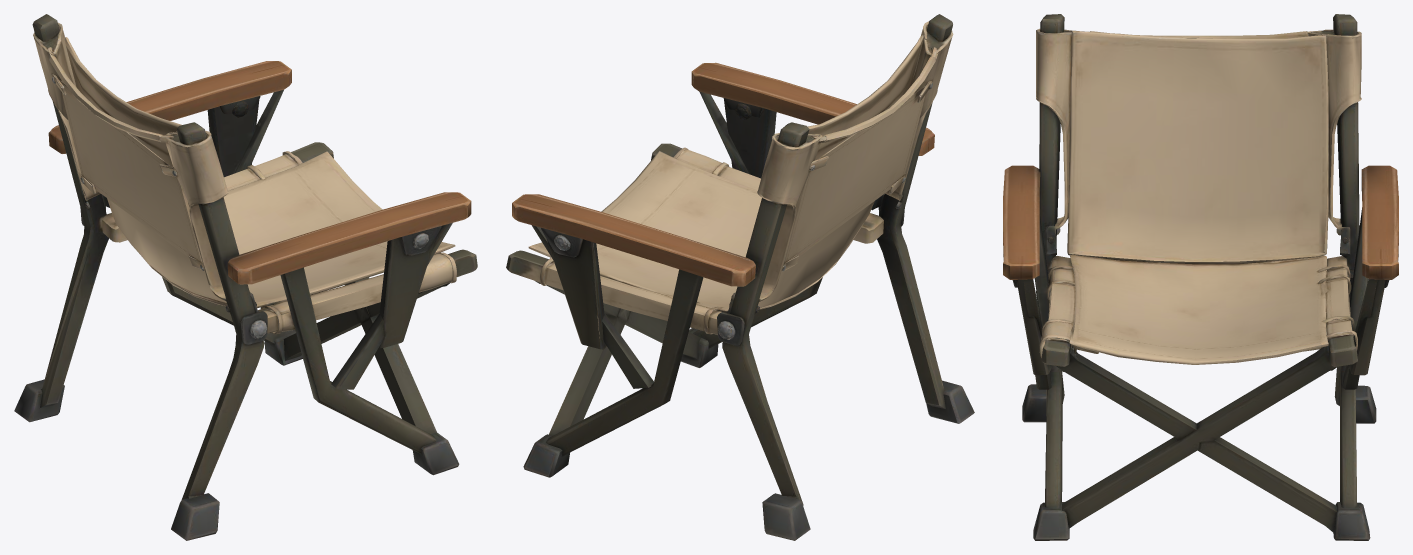
File: camp-chair.glb
3 views of the same model, side by side, from view 1: azimuth 30°, elevation 25°; view 2: azimuth 150°, elevation 25°; view 3: azimuth 270°, elevation 25° (orthographic).
Visible parts, largest first — view 1: tripo_node_7d74c805-6079-4f4e-bb07-25c2b6070d97; view 2: tripo_node_7d74c805-6079-4f4e-bb07-25c2b6070d97; view 3: tripo_node_7d74c805-6079-4f4e-bb07-25c2b6070d97.
Boxes of the visible parts, <box> form: tripo_node_7d74c805-6079-4f4e-bb07-25c2b6070d97: <box>14,14,477,540</box>; tripo_node_7d74c805-6079-4f4e-bb07-25c2b6070d97: <box>506,14,974,540</box>; tripo_node_7d74c805-6079-4f4e-bb07-25c2b6070d97: <box>1003,14,1398,540</box>.
Size of the model in its own units: 0.8066 by 0.998 by 0.8926.
Materials: 1 (1 with a texture image).
